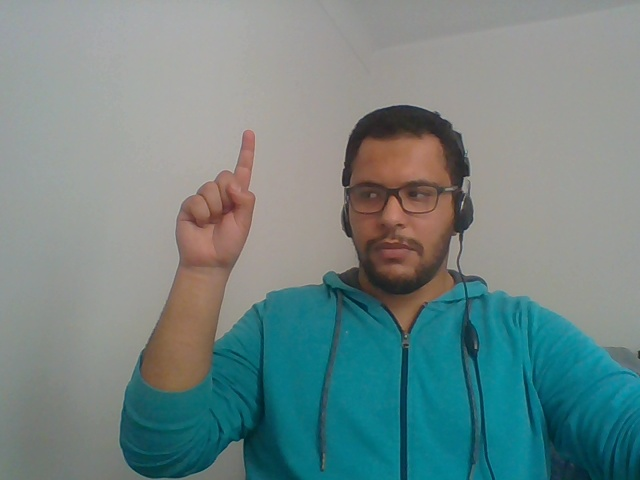handup: (137, 107, 274, 389)
